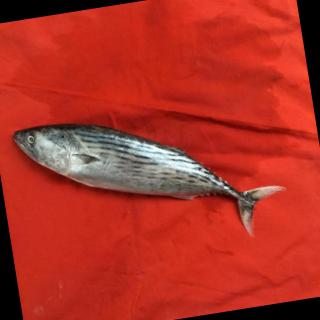Ikan: (7, 80, 295, 281)
